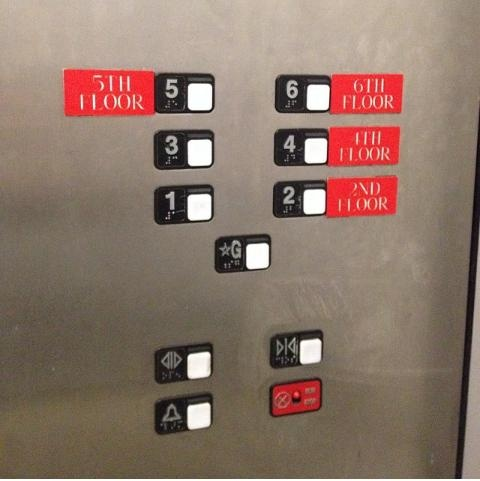1: (152, 181, 216, 227)
2: (270, 176, 329, 218)
3: (151, 125, 215, 172)
4: (271, 125, 330, 169)
5: (152, 70, 216, 115)
6: (273, 73, 332, 116)
alarm: (152, 390, 215, 435)
close: (266, 327, 324, 369)
open: (152, 340, 215, 385)
sG: (212, 230, 273, 274)
stop: (267, 374, 323, 419)
